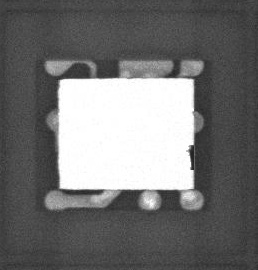DIE_BROKEN: (185, 143, 197, 170)
